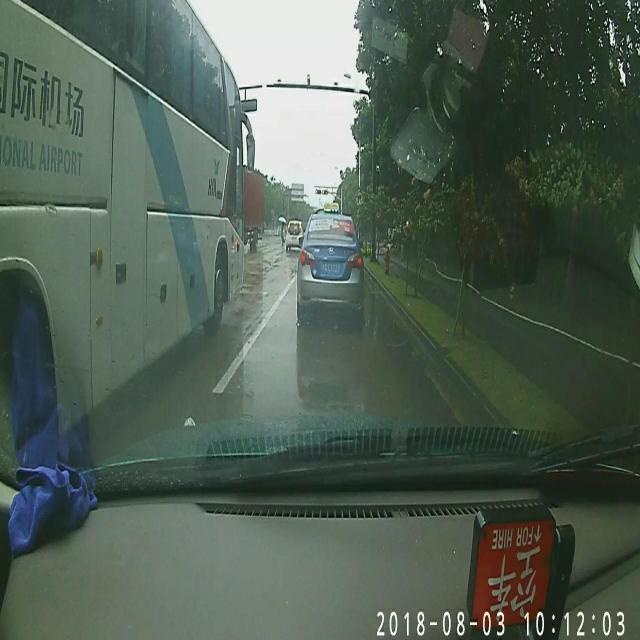car: (297, 201, 365, 323), (228, 165, 266, 248), (286, 217, 303, 250)
